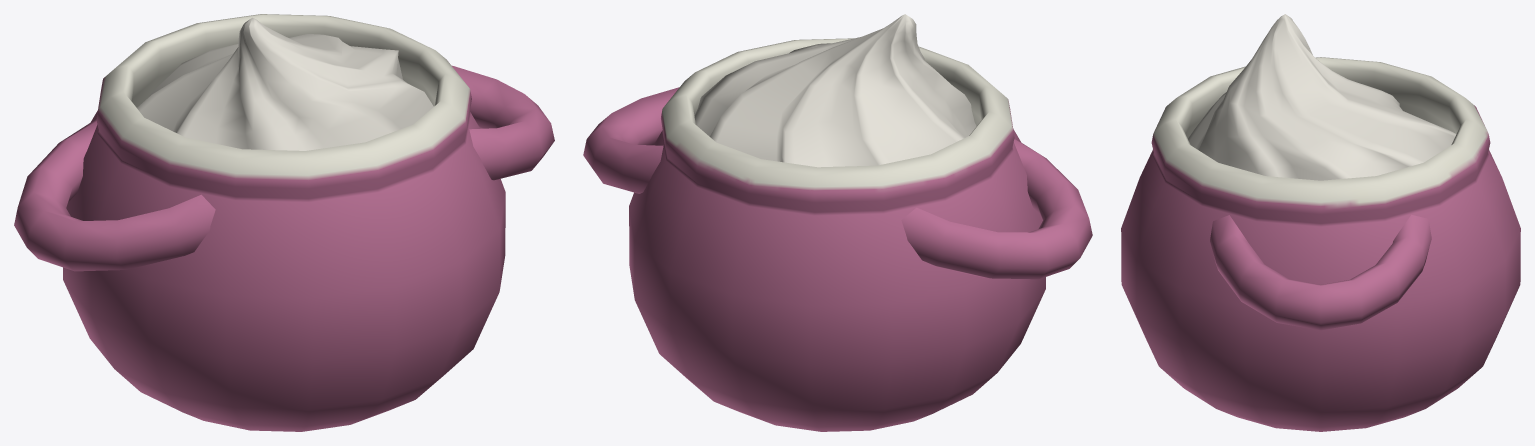
File: pi_whippedcream03.gltf
3 views of the same model, side by side, from view 1: azimuth 30°, elevation 25°; view 2: azimuth 150°, elevation 25°; view 3: azimuth 270°, elevation 25° (orthographic). The views are drawn at different scales.
Visible parts, largest first — view 1: um_pi_whippedcream03_model_pi_whippedcream03_modelShape:pi_w (×2); view 2: um_pi_whippedcream03_model_pi_whippedcream03_modelShape:pi_w (×2); view 3: um_pi_whippedcream03_model_pi_whippedcream03_modelShape:pi_w (×2).
Part boxes in pixels (<box>): um_pi_whippedcream03_model_pi_whippedcream03_modelShape:pi_w (×2): <box>14,14,554,431</box>; um_pi_whippedcream03_model_pi_whippedcream03_modelShape:pi_w (×2): <box>583,14,1092,431</box>; um_pi_whippedcream03_model_pi_whippedcream03_modelShape:pi_w (×2): <box>1121,14,1520,431</box>.
Size of the model in its own units: 0.1421 by 0.1047 by 0.1069.
Materials: 2 (2 with a texture image).
